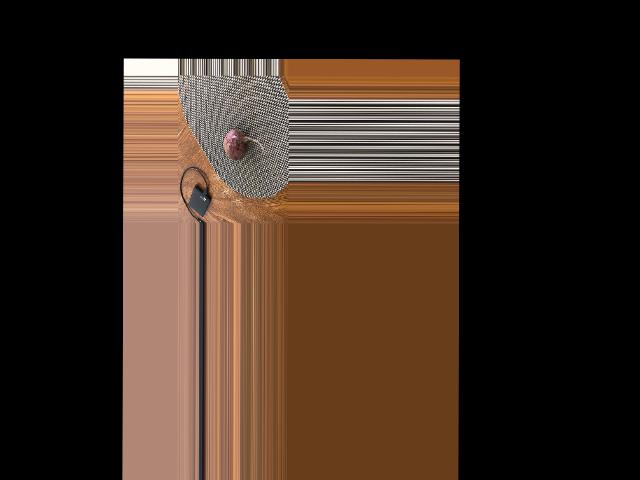beet: (224, 129, 264, 160)
